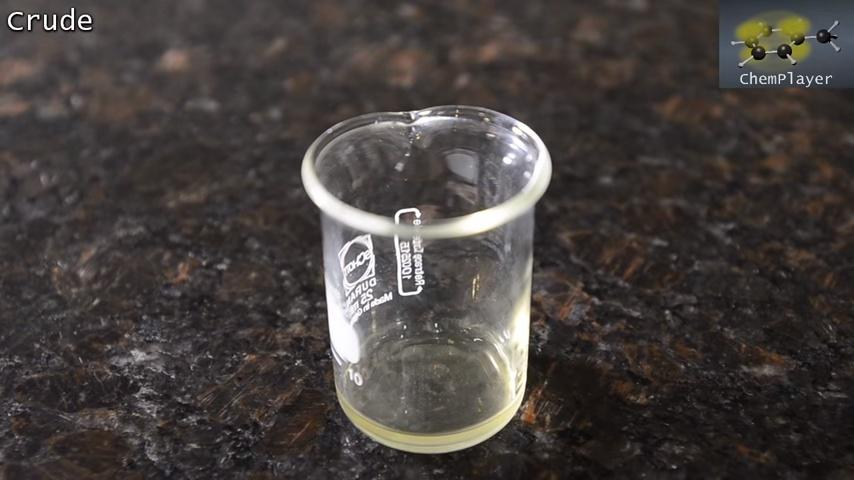Beaker: (311, 89, 557, 447)
